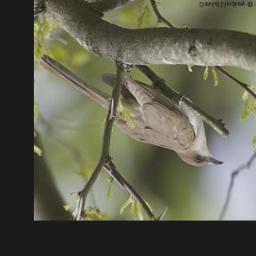Cuckoo: (37, 54, 221, 169)
